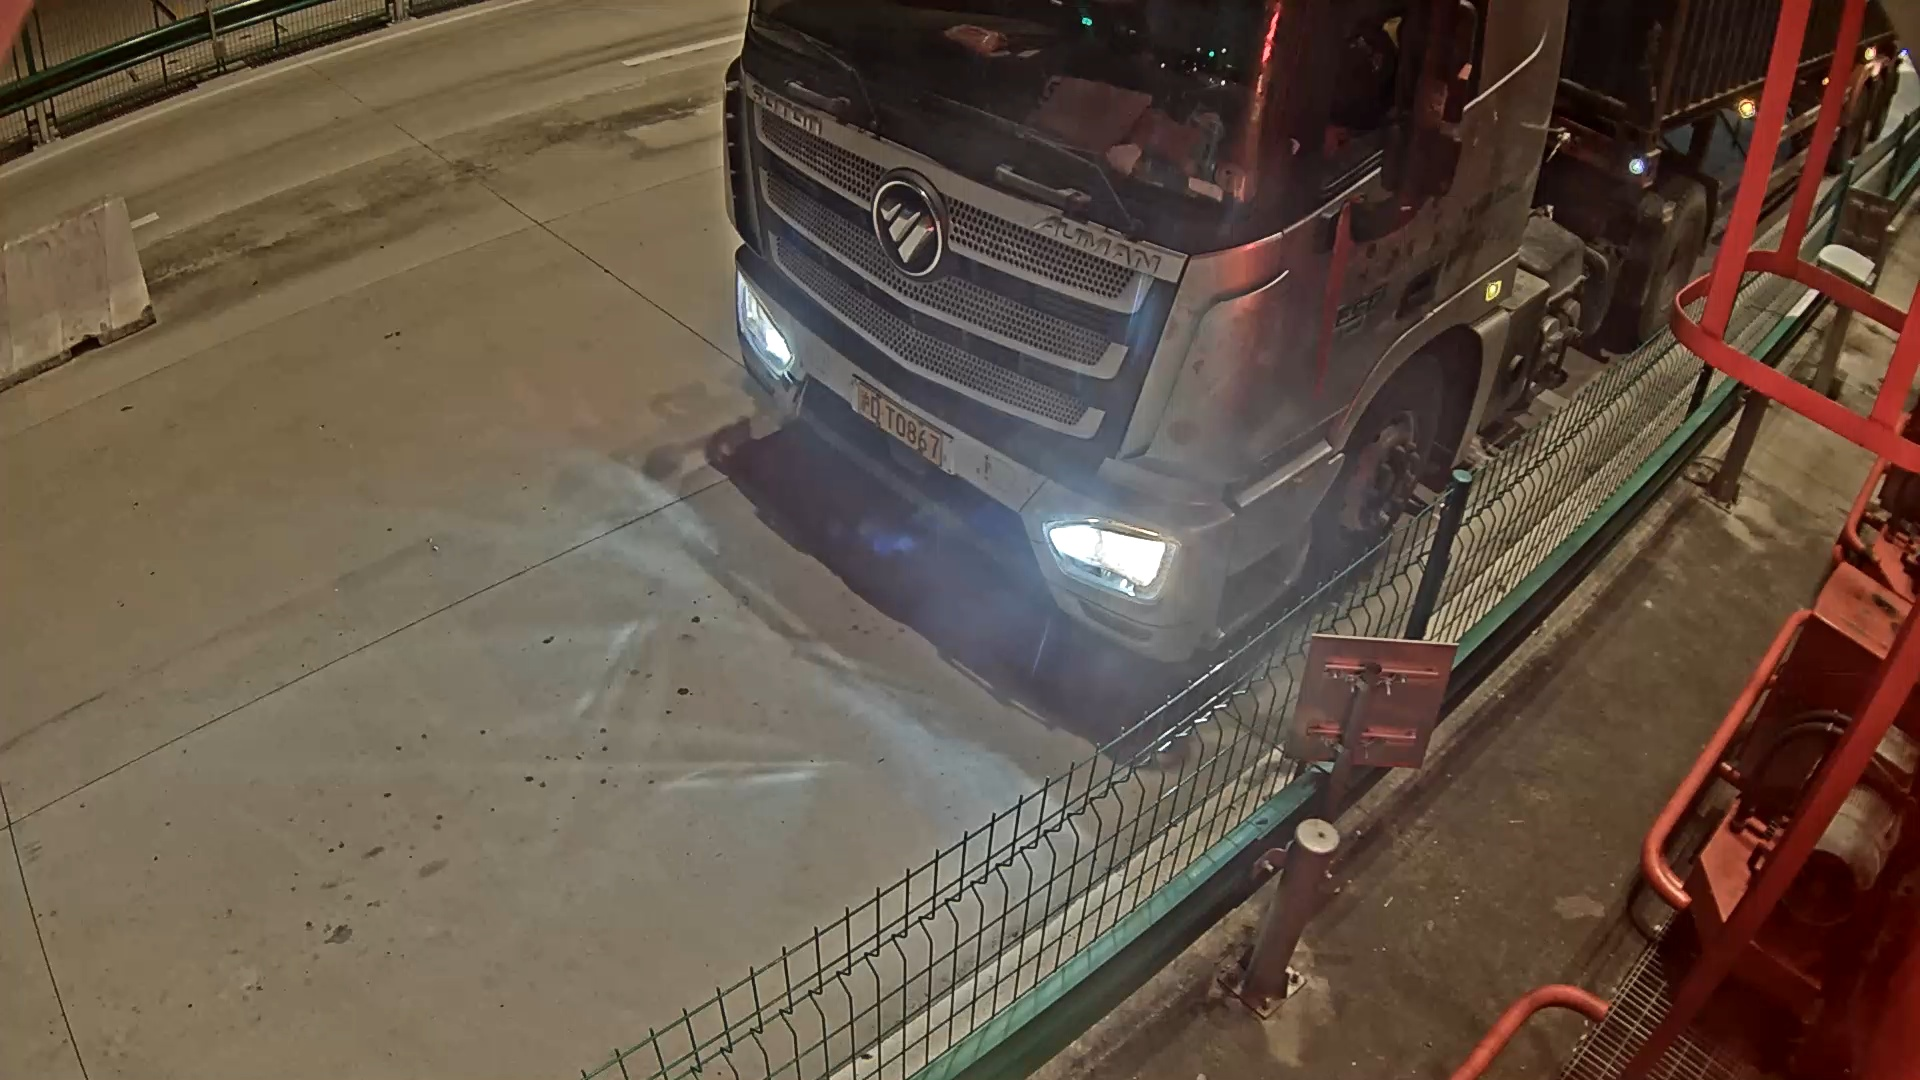head: (733, 34, 1400, 721)
plate: (843, 372, 989, 490)
